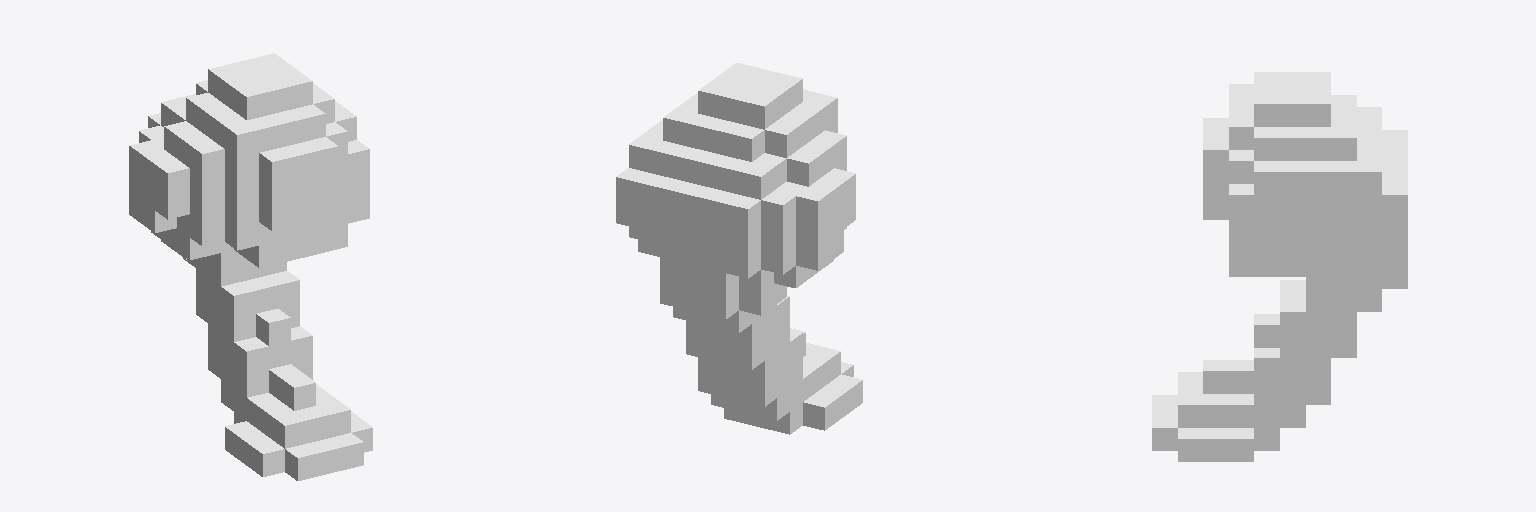
The model's file is Wolf-2.obj.
3 renders of one model, left to right at view 1: azimuth 30°, elevation 25°; view 2: azimuth 150°, elevation 25°; view 3: azimuth 270°, elevation 25°, orthographic.
Parts seen in each view (by area): view 1: object 1; view 2: object 1; view 3: object 1.
Part boxes in pixels (x1,y1,x2,y2): object 1: (129, 53, 372, 480); object 1: (616, 63, 862, 434); object 1: (1152, 72, 1407, 461).
Size of the model in its own units: 0.8 by 1.5 by 1.